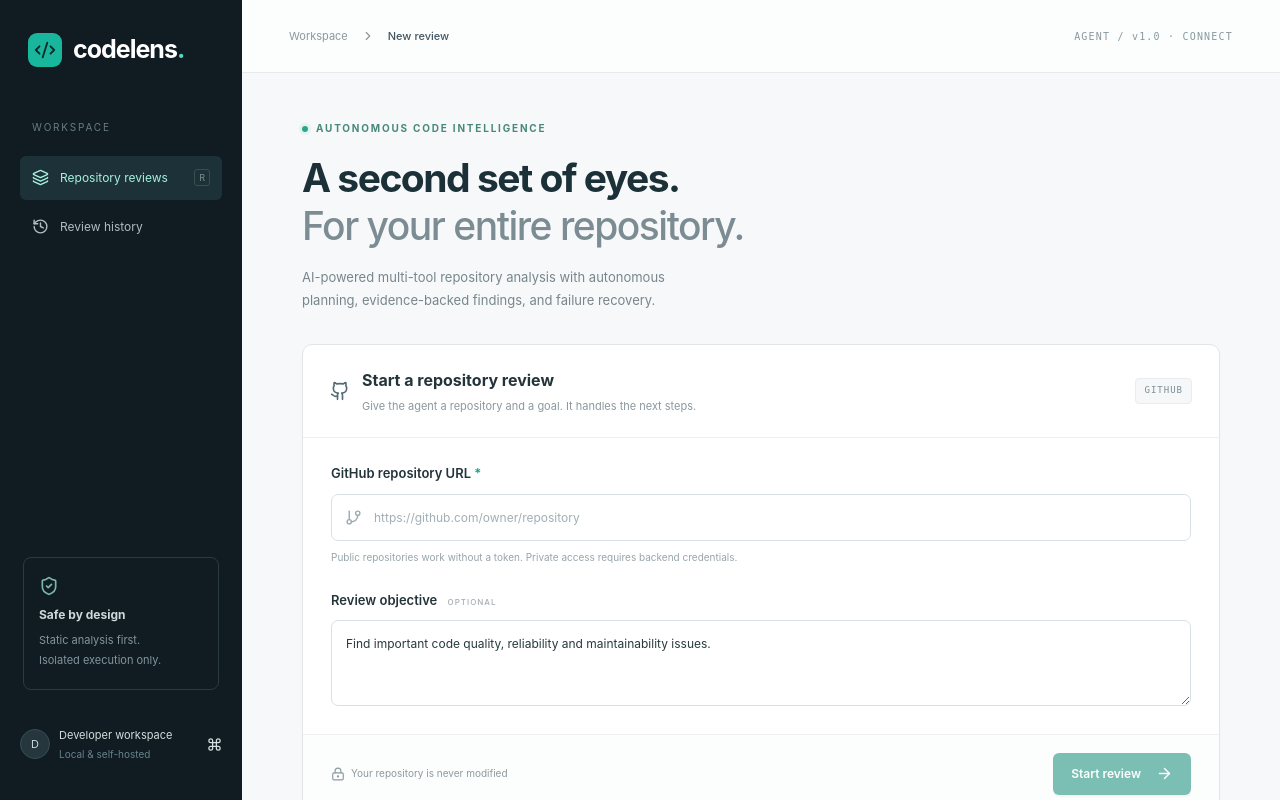
Test: dashboard › accepts a repository and an objective
Expected: the button "Start review" is disabled, left=1053, top=753, right=1191, bottom=795
Type "https://github.com/a/b" into the field labelled "GitHub repository URL *" at {"x": 761, "y": 517}, box left=331, top=494, right=1191, bottom=541
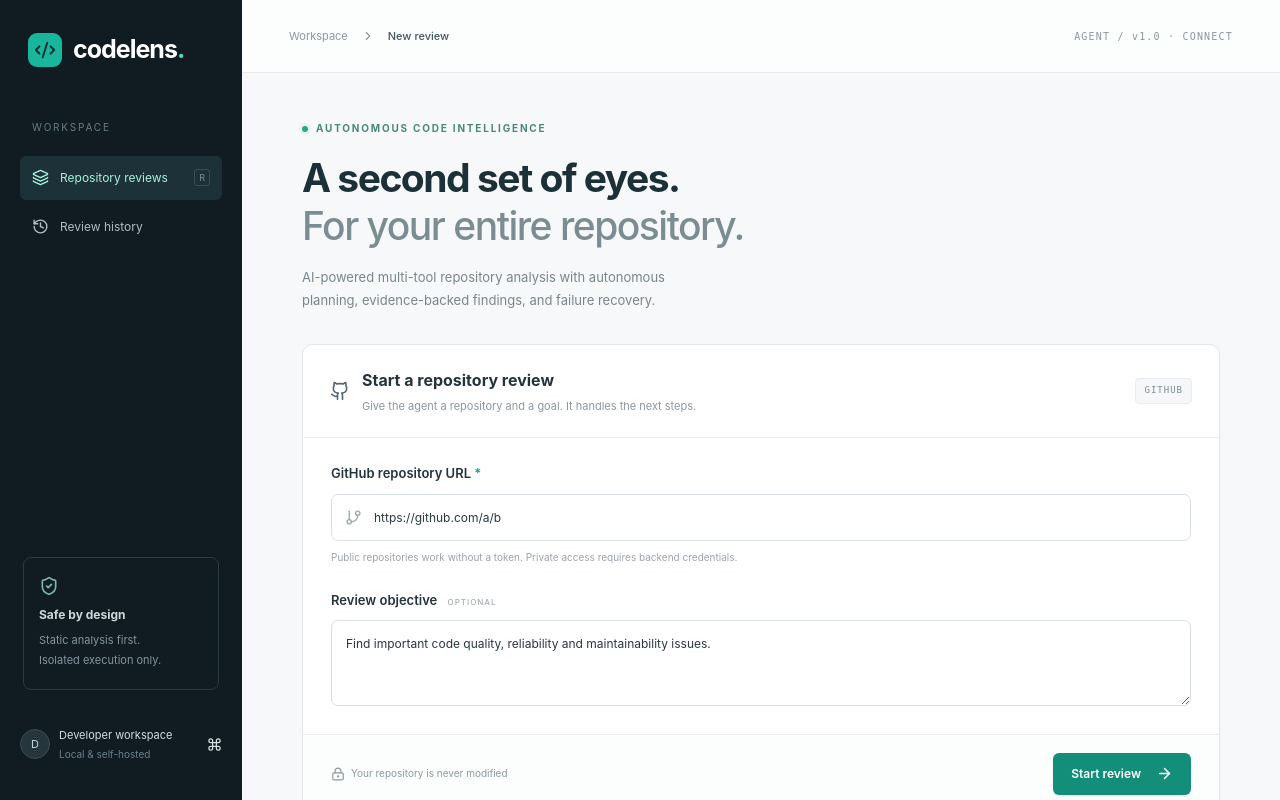
Expected: the text box labelled "Review objective OPTIONAL" is shown, left=331, top=620, right=1191, bottom=706
Result: the button "Start review" is enabled at left=1053, top=753, right=1191, bottom=795
